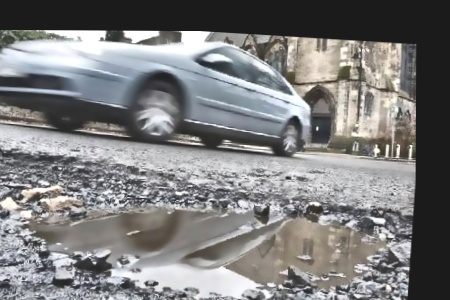pothole: (8, 168, 410, 300)
